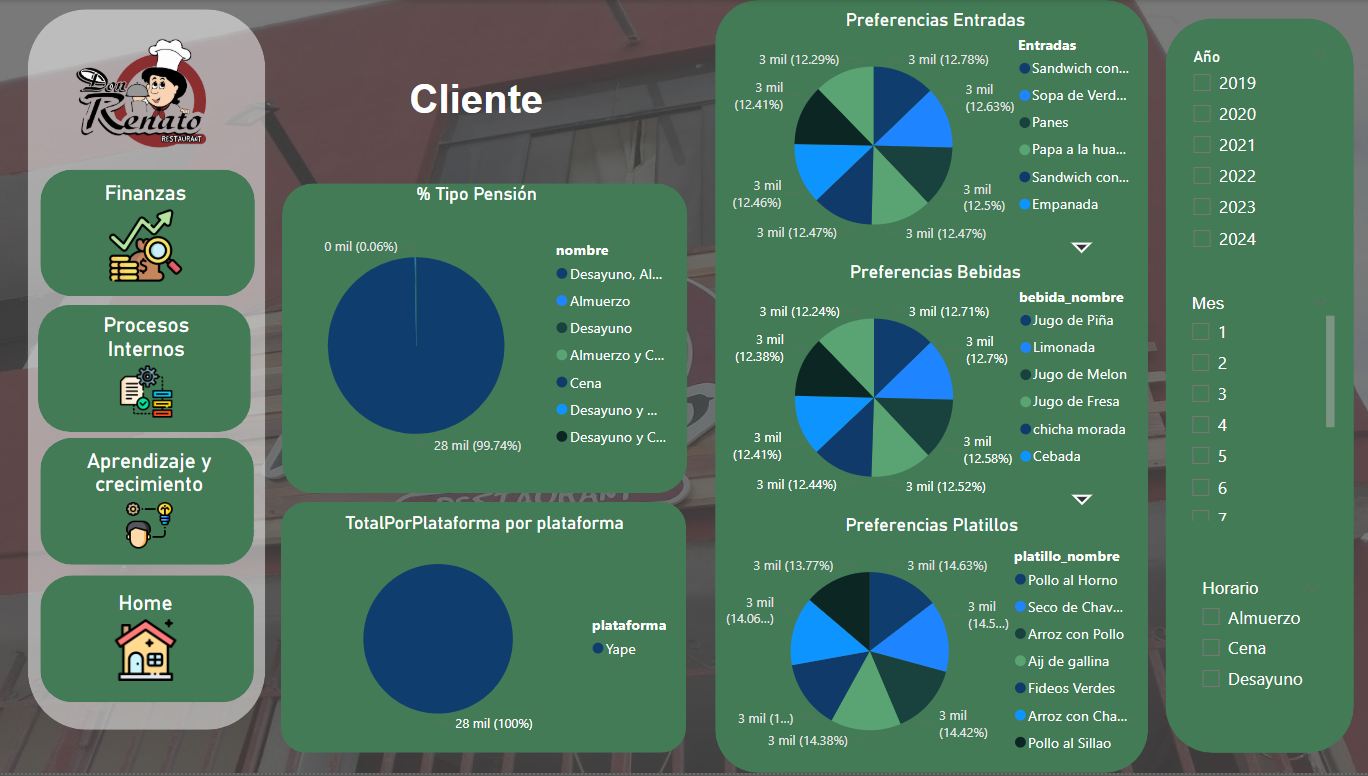

What the dashboard file says about the page in this screenshot:
{"tool":"powerbi","page":{"name":"Clientes","canvas":[1280,720],"ordinal":4},"visuals":[{"type":"shape","box":[263.8,171.2,377.5,288.8],"z":0},{"type":"shape","box":[262.5,467.5,377.5,233.8],"z":1000},{"type":"shape","box":[666.7,0,403.3,720],"z":2000},{"type":"shape","box":[27.1,8.6,221.4,671.4],"z":3000},{"type":"image","box":[42.9,8.6,185.7,151.4],"z":4000},{"type":"shape","box":[37.9,158.3,200,118.2],"z":5000},{"type":"shape","box":[38.5,407.7,199.2,118.5],"z":6000},{"type":"image","title":"Finanzas","box":[88.6,167.1,95.7,100],"z":7000},{"type":"shape","box":[36.2,283.8,198.5,118.5],"z":8000},{"type":"image","title":"Procesos Internos","box":[67.1,291.6,140,102.7],"z":9000},{"type":"image","title":"Aprendizaje y crecimiento","box":[66.9,416.9,145.4,100],"z":10000},{"type":"shape","box":[38.5,536.2,199.2,118.5],"z":11000},{"type":"image","title":"Home","box":[88.6,550,95.7,90],"z":12000},{"type":"shape","box":[1087,17.1,175.6,684.4],"z":13000},{"type":"slicer","fields":{"Values":["Calentadario.Año"]},"box":[1099.9,39.6,149.9,205.6],"z":14000},{"type":"slicer","fields":{"Values":["Calentadario.Mes"]},"box":[1098.4,267.9,150.5,222],"z":15000},{"type":"pieChart","title":"% Tipo Pensión","fields":{"Y":["Medidas.ConteoTipoPension"],"Category":["Dim_tipopension.nombre","Dim_tipopension.id"]},"box":[252.5,171.2,383.8,282.5],"z":16000},{"type":"pieChart","fields":{"Y":["Medidas.TotalPorPlataforma"],"Category":["Dim_pagodigital.plataforma"]},"box":[260,477.5,383.8,216.2],"z":17000},{"type":"pieChart","title":"Preferencias Bebidas","fields":{"Y":["Medidas.TotalPedidos"],"Category":["Dim_pedido.bebida_nombre"]},"box":[674.4,243.3,395.6,234.4],"z":18000},{"type":"pieChart","title":"Preferencias Entradas","fields":{"Y":["Medidas.TotalPedidos"],"Category":["Dim_pedido.entrada_nombre"]},"box":[674.4,8.9,395.6,234.4],"z":19000},{"type":"pieChart","title":"Preferencias Platillos","fields":{"Y":["Medidas.TotalPedidos"],"Category":["Dim_pedido.platillo_nombre"]},"box":[671.2,478.8,395,235],"z":20000},{"type":"slicer","fields":{"Values":["Dim_horarioscomida.nombre"]},"box":[1108,533.7,133.4,121.7],"z":21000},{"type":"textbox","box":[342.6,66.2,203.9,75.8],"z":22000}]}

Visuals, with their boxes in screenshot pixels (x1, y1, x2, y2), scaled from the page's 1280x720 canvas onto the 1368x776 screenshot:
shape: rect(282, 185, 685, 496)
shape: rect(281, 504, 684, 756)
shape: rect(713, 0, 1144, 775)
shape: rect(29, 9, 266, 733)
image: rect(46, 9, 244, 172)
shape: rect(41, 171, 254, 298)
shape: rect(41, 439, 254, 567)
"Finanzas" image: rect(95, 180, 197, 288)
shape: rect(39, 306, 251, 434)
"Procesos Internos" image: rect(72, 314, 221, 425)
"Aprendizaje y crecimiento" image: rect(71, 449, 227, 557)
shape: rect(41, 578, 254, 706)
"Home" image: rect(95, 593, 197, 690)
shape: rect(1162, 18, 1349, 756)
slicer - Calentadario.Año: rect(1176, 43, 1336, 264)
slicer - Calentadario.Mes: rect(1174, 289, 1335, 528)
"% Tipo Pensión" pieChart: rect(270, 185, 680, 489)
pieChart - Medidas.TotalPorPlataforma x Dim_pagodigital.plataforma: rect(278, 515, 688, 748)
"Preferencias Bebidas" pieChart: rect(721, 262, 1144, 515)
"Preferencias Entradas" pieChart: rect(721, 10, 1144, 262)
"Preferencias Platillos" pieChart: rect(717, 516, 1140, 769)
slicer - Dim_horarioscomida.nombre: rect(1184, 575, 1327, 706)
textbox: rect(366, 71, 584, 153)
